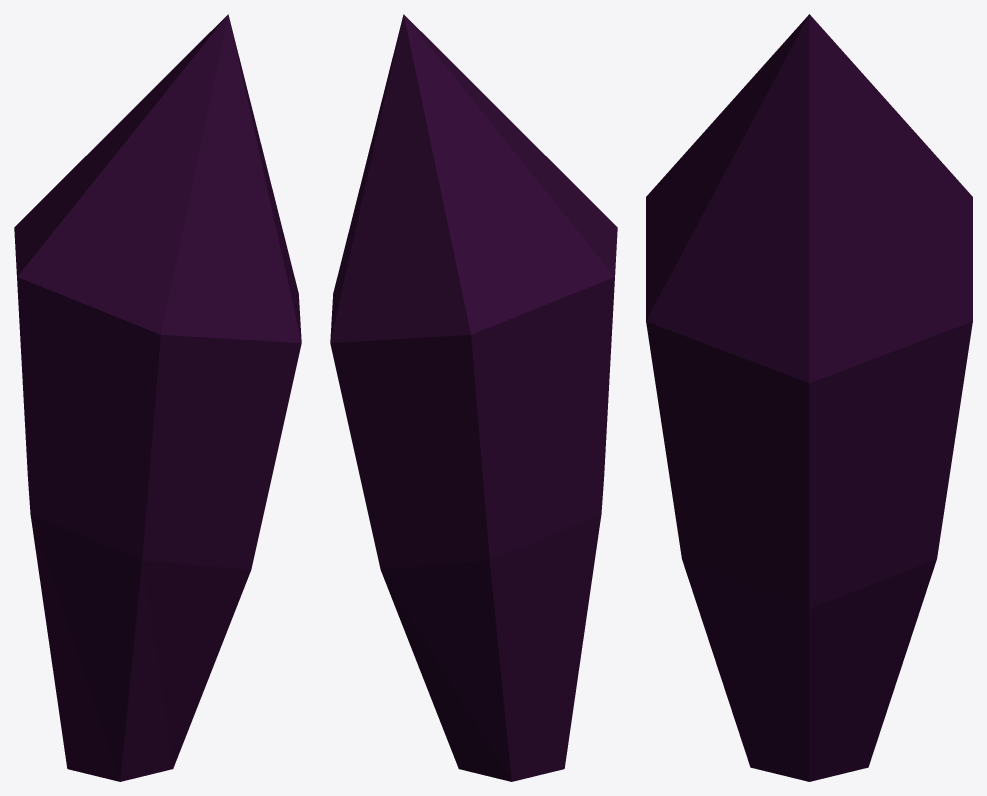
The model's file is bigcrystal.fbx.
3 renders of one model, left to right at view 1: azimuth 30°, elevation 25°; view 2: azimuth 150°, elevation 25°; view 3: azimuth 270°, elevation 25°, orthographic. The views are drawn at different scales.
Visible parts, largest first — view 1: crystal004; view 2: crystal004; view 3: crystal004.
Boxes of the visible parts, box(x1,y1,x2,y2) form: crystal004: box(14, 14, 301, 781); crystal004: box(330, 14, 617, 781); crystal004: box(646, 14, 972, 781).
Size of the model in its own units: 29.42 by 71.43 by 26.52.
